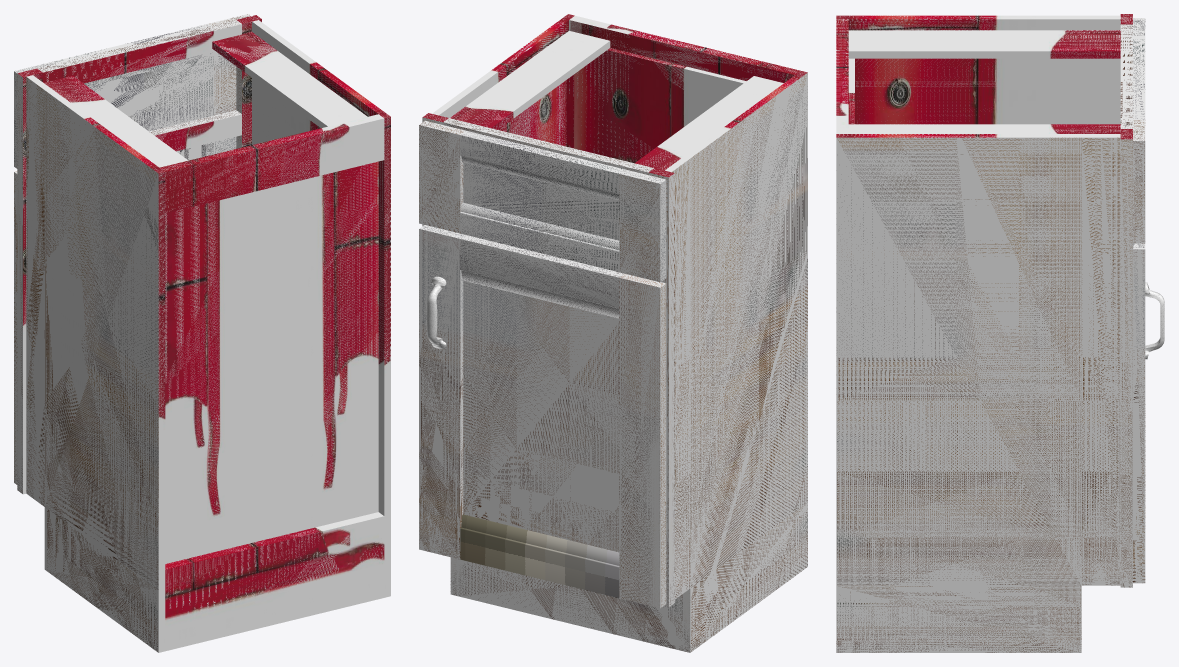
3 renders of one model, left to right at view 1: azimuth 30°, elevation 25°; view 2: azimuth 150°, elevation 25°; view 3: azimuth 270°, elevation 25°, orthographic. The views are drawn at different scales.
Visible parts, largest first — view 1: mesh4_mesh4-geometry, mesh7_mesh7-geometry, mesh12_mesh12-geometry, mesh3_mesh3-geometry, mesh10_mesh10-geometry, mesh6_mesh6-geometry, mesh8_mesh8-geometry, mesh5_mesh5-geometry, mesh2_mesh2-geometry, mesh14_mesh14-geometry, mesh20_mesh20-geometry, mesh15_mesh15-geometry (+5 smaller); view 2: mesh7_mesh7-geometry, mesh26_mesh26-geometry, mesh23_mesh23-geometry, mesh22_mesh22-geometry, mesh4_mesh4-geometry, mesh13_mesh13-geometry, mesh8_mesh8-geometry, mesh24_mesh24-geometry, mesh25_mesh25-geometry, mesh6_mesh6-geometry, mesh21_mesh21-geometry, mesh14_mesh14-geometry (+10 smaller); view 3: mesh10_mesh10-geometry, mesh7_mesh7-geometry, mesh9_mesh9-geometry, mesh11_mesh11-geometry, mesh15_mesh15-geometry, mesh2_mesh2-geometry, mesh22_mesh22-geometry, mesh6_mesh6-geometry, mesh14_mesh14-geometry, mesh19_mesh19-geometry, mesh3_mesh3-geometry, mesh5_mesh5-geometry (+2 smaller).
Boxes of the visible parts, bbox=[...] form: mesh4_mesh4-geometry: bbox=[165, 161, 378, 563]; mesh7_mesh7-geometry: bbox=[44, 88, 165, 590]; mesh12_mesh12-geometry: bbox=[165, 512, 384, 651]; mesh3_mesh3-geometry: bbox=[160, 114, 384, 213]; mesh10_mesh10-geometry: bbox=[270, 33, 390, 535]; mesh6_mesh6-geometry: bbox=[26, 75, 50, 506]; mesh8_mesh8-geometry: bbox=[44, 507, 165, 652]; mesh5_mesh5-geometry: bbox=[37, 20, 241, 151]; mesh2_mesh2-geometry: bbox=[17, 15, 261, 494]; mesh14_mesh14-geometry: bbox=[212, 32, 367, 128]; mesh20_mesh20-geometry: bbox=[88, 56, 213, 116]; mesh15_mesh15-geometry: bbox=[44, 76, 188, 167]; mesh7_mesh7-geometry: bbox=[684, 71, 807, 587]; mesh26_mesh26-geometry: bbox=[463, 281, 619, 552]; mesh23_mesh23-geometry: bbox=[619, 274, 666, 608]; mesh22_mesh22-geometry: bbox=[419, 225, 464, 559]; mesh4_mesh4-geometry: bbox=[566, 48, 746, 163]; mesh13_mesh13-geometry: bbox=[457, 559, 683, 650]; mesh8_mesh8-geometry: bbox=[683, 502, 807, 652]; mesh24_mesh24-geometry: bbox=[460, 235, 624, 318]; mesh25_mesh25-geometry: bbox=[460, 514, 619, 598]; mesh6_mesh6-geometry: bbox=[665, 157, 690, 599]; mesh21_mesh21-geometry: bbox=[463, 162, 619, 240]; mesh14_mesh14-geometry: bbox=[450, 31, 610, 129]; mesh10_mesh10-geometry: bbox=[836, 134, 1081, 585]; mesh7_mesh7-geometry: bbox=[836, 15, 1081, 124]; mesh9_mesh9-geometry: bbox=[1081, 134, 1120, 585]; mesh11_mesh11-geometry: bbox=[836, 585, 1081, 652]; mesh15_mesh15-geometry: bbox=[848, 30, 1120, 58]; mesh2_mesh2-geometry: bbox=[1120, 14, 1132, 587]; mesh22_mesh22-geometry: bbox=[1133, 243, 1145, 583]; mesh6_mesh6-geometry: bbox=[1081, 15, 1120, 124]; mesh14_mesh14-geometry: bbox=[848, 124, 1120, 133]; mesh19_mesh19-geometry: bbox=[1133, 120, 1145, 243]; mesh3_mesh3-geometry: bbox=[836, 19, 848, 133]; mesh5_mesh5-geometry: bbox=[1120, 24, 1132, 128].
Bounding box in the file's own units: 0.4118 × 0.7893 × 0.4554.
